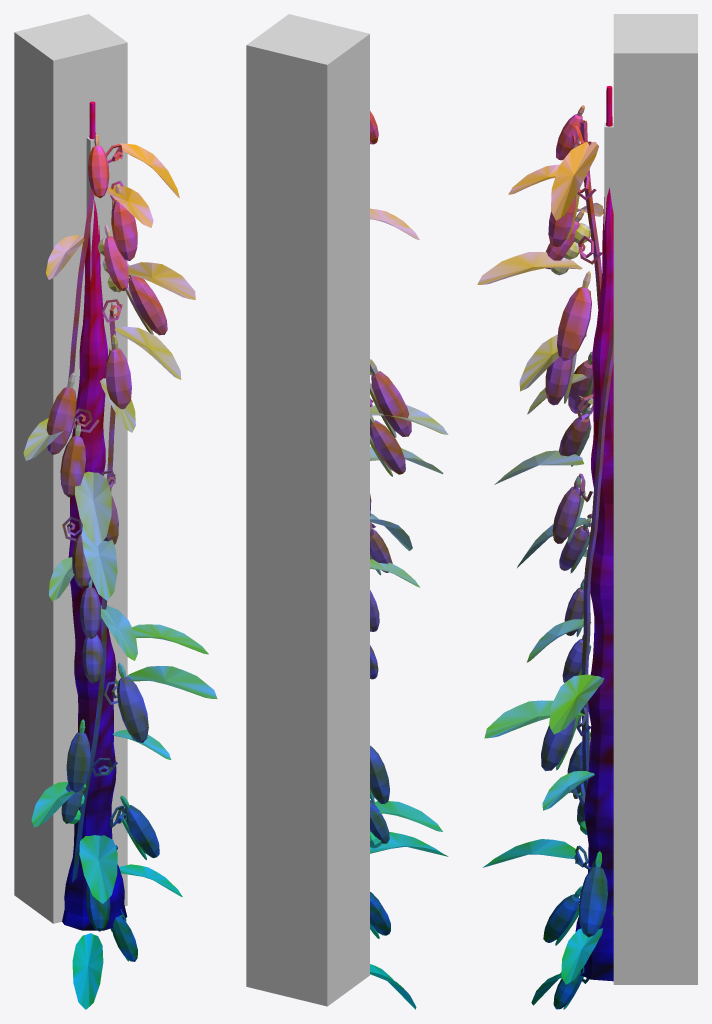
The model's file is Plant_Ladder_03.fbx.
The picture shows the model from 3 angles, left to right: view 1: azimuth 30°, elevation 25°; view 2: azimuth 150°, elevation 25°; view 3: azimuth 270°, elevation 25°; orthographic projection. The views are drawn at different scales.
Visible parts, largest first — view 1: CLIMB_0, Plant_Ladder_03, COL_03_0; view 2: CLIMB_0, Plant_Ladder_03; view 3: CLIMB_0, Plant_Ladder_03, COL_03_0.
Part boxes in pixels (x1,y1,x2,y2): CLIMB_0: [14, 14, 127, 923]; Plant_Ladder_03: [23, 101, 217, 1009]; COL_03_0: [86, 137, 98, 280]; CLIMB_0: [246, 14, 369, 1006]; Plant_Ladder_03: [370, 111, 448, 1009]; CLIMB_0: [613, 14, 697, 984]; Plant_Ladder_03: [477, 86, 613, 1009]; COL_03_0: [604, 123, 613, 229].
Size of the model in its own units: 2.63 by 13.02 by 2.62.
